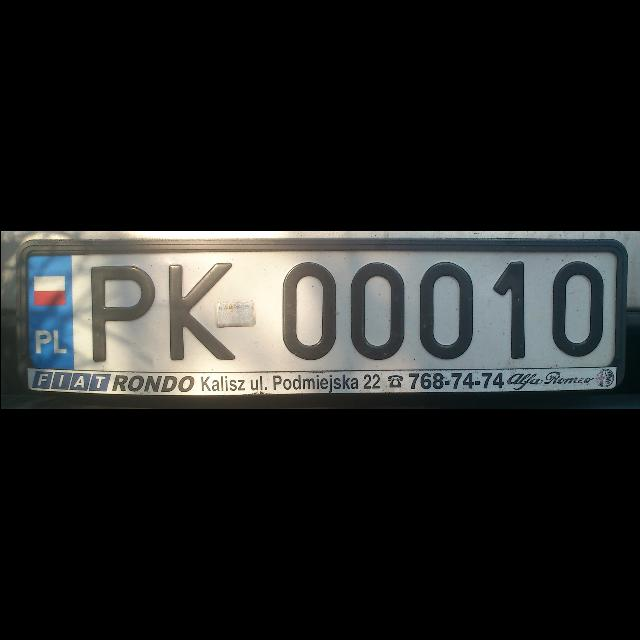pl_license_plate: (21, 246, 623, 372)
